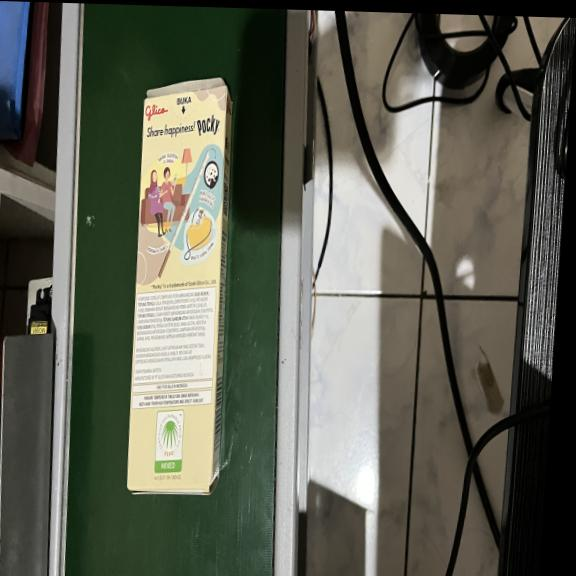Kertas: (117, 80, 230, 486)
